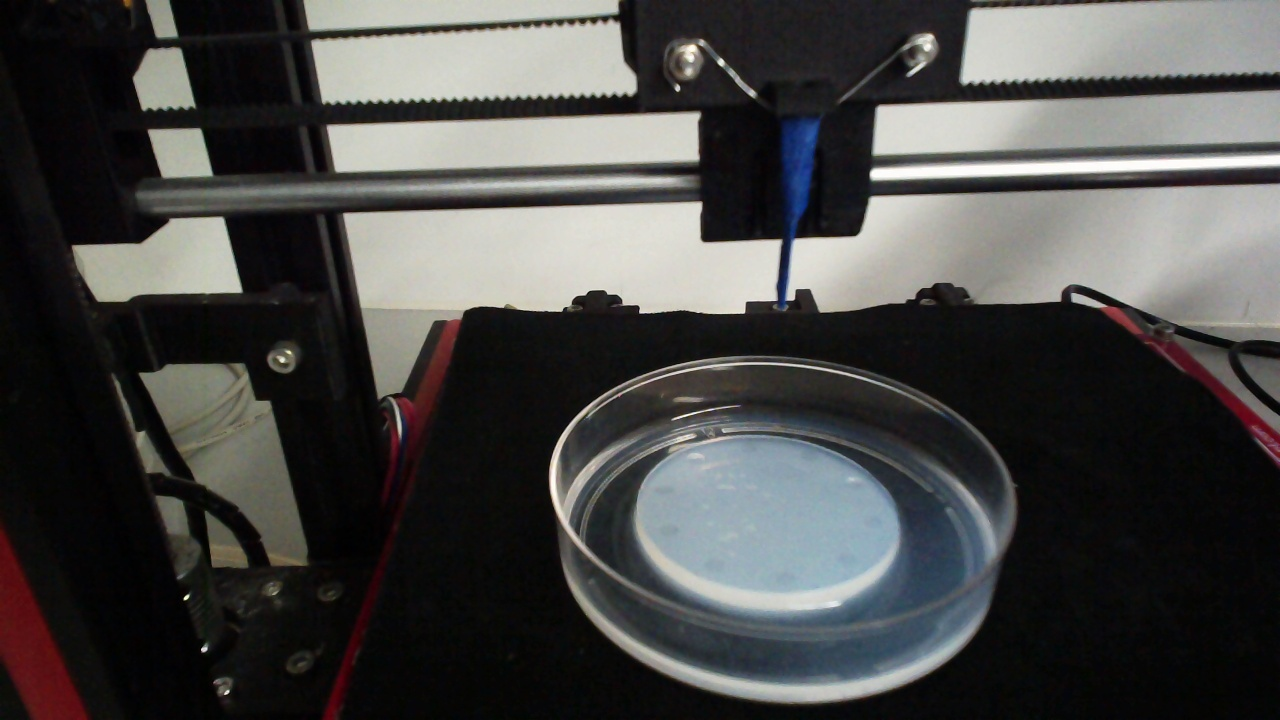groove: (834, 551, 859, 569), (703, 555, 726, 574), (659, 522, 681, 540), (861, 513, 884, 530), (774, 570, 796, 587), (651, 482, 675, 497), (843, 475, 865, 491), (737, 440, 759, 456), (685, 451, 704, 466), (800, 449, 819, 463)
needle: (777, 121, 818, 312)
